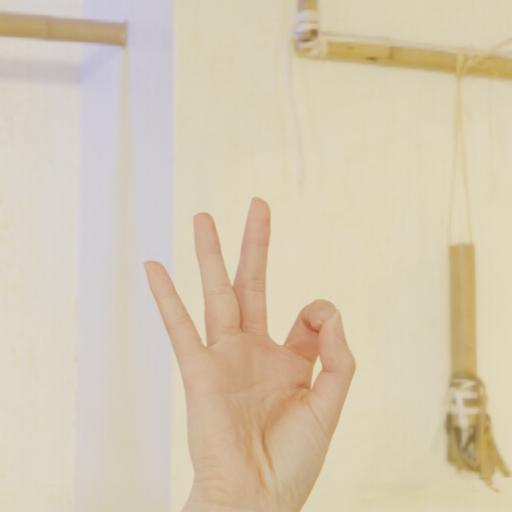F: (129, 177, 394, 512)
